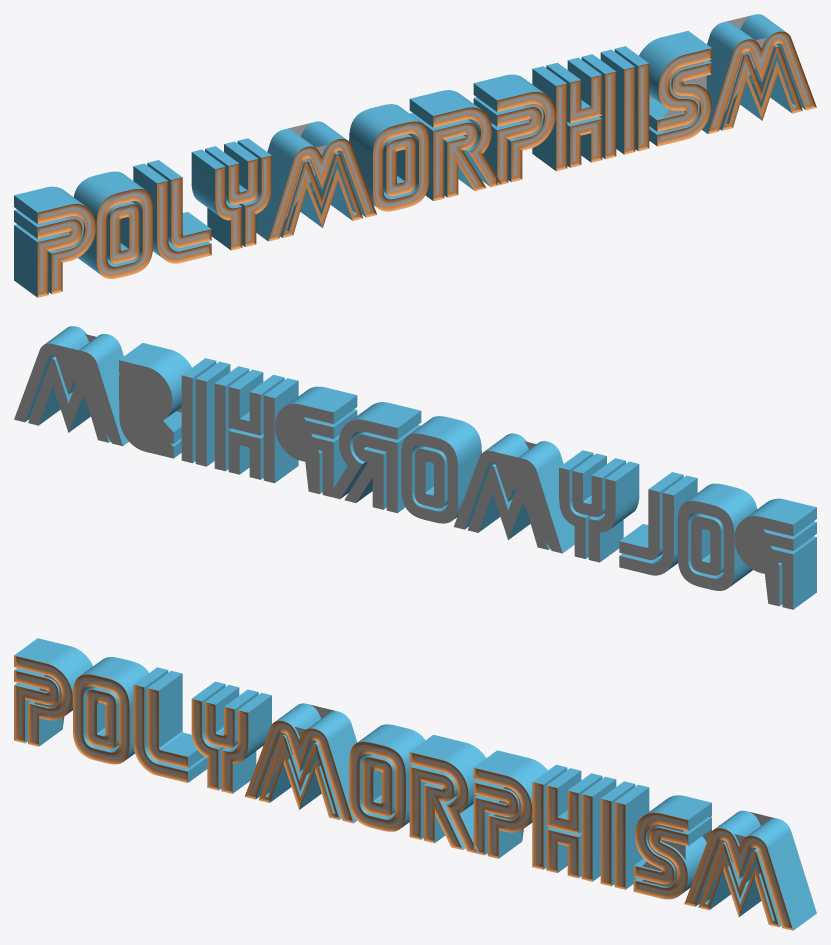
The model's file is Polymorphism.fbx.
3 views of the same model, one above another, from view 1: azimuth 30°, elevation 25°; view 2: azimuth 150°, elevation 25°; view 3: azimuth 330°, elevation 25° (orthographic).
Visible parts, largest first — view 1: typeMesh1; view 2: typeMesh1; view 3: typeMesh1.
Boxes of the visible parts, x1,y1,x2,y2 form: typeMesh1: (14,14,816,297); typeMesh1: (14,326,816,609); typeMesh1: (14,638,816,930).
Size of the model in its own units: 190 by 19.82 by 10.
